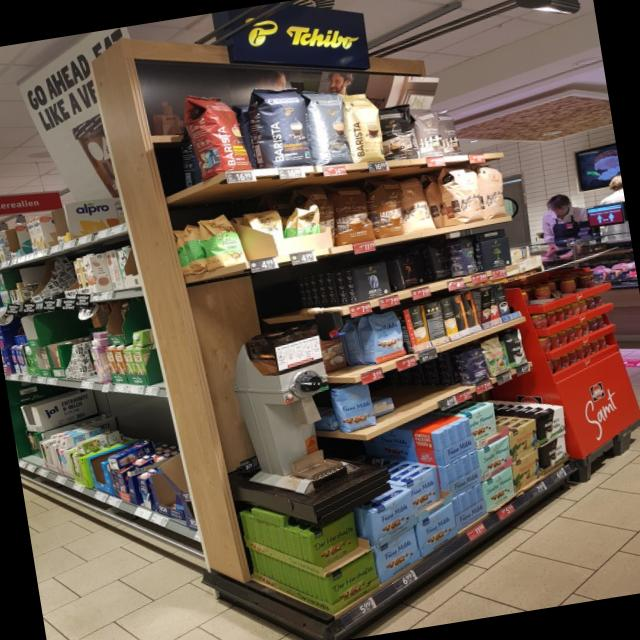AB Gemahlen: (353, 259, 395, 303)
Athiopien Bohne: (198, 210, 251, 270)
BM Bohne: (457, 237, 482, 276)
BM Gemahlen: (480, 236, 515, 272)
BW Bohne: (500, 326, 531, 370)
BW Gemahlen: (539, 432, 571, 475), (535, 404, 567, 446)
Barista CB: (344, 88, 388, 163)
Barista CC: (305, 88, 357, 166)
Barista Espresso: (252, 83, 317, 168)
Barista Kolumbien: (184, 90, 260, 174)
C Fino Bohne: (459, 345, 493, 387)
CC Mild: (445, 165, 488, 223), (477, 162, 513, 219)
CC Vollmundig 36 Pads: (330, 182, 379, 247), (371, 179, 406, 238)
Colombia BB Bohne: (481, 334, 511, 379)
Colombia BB Gemahlen: (513, 447, 543, 493), (509, 418, 539, 463)
Espresso Aromatisch: (411, 105, 446, 159), (436, 108, 469, 155)
Espresso Kraftig: (376, 101, 421, 161)
FM 36 Pads: (367, 309, 408, 365)
FM Bohne: (334, 383, 382, 435)
FM Gemahlen: (372, 487, 419, 549), (376, 525, 423, 584), (415, 502, 461, 558)
Herzhatfe Mundig: (325, 550, 382, 616), (308, 510, 363, 571)
LG Bohne: (393, 250, 429, 291)
SM Gemahlen: (478, 435, 514, 481), (483, 464, 517, 512)
Simo CCMild bigpack: (441, 296, 461, 342)
Simo CCVollmundig: (403, 304, 430, 353)
Simo Es Caramel: (481, 287, 492, 328)
Simo Es Kraft: (495, 282, 512, 323)
